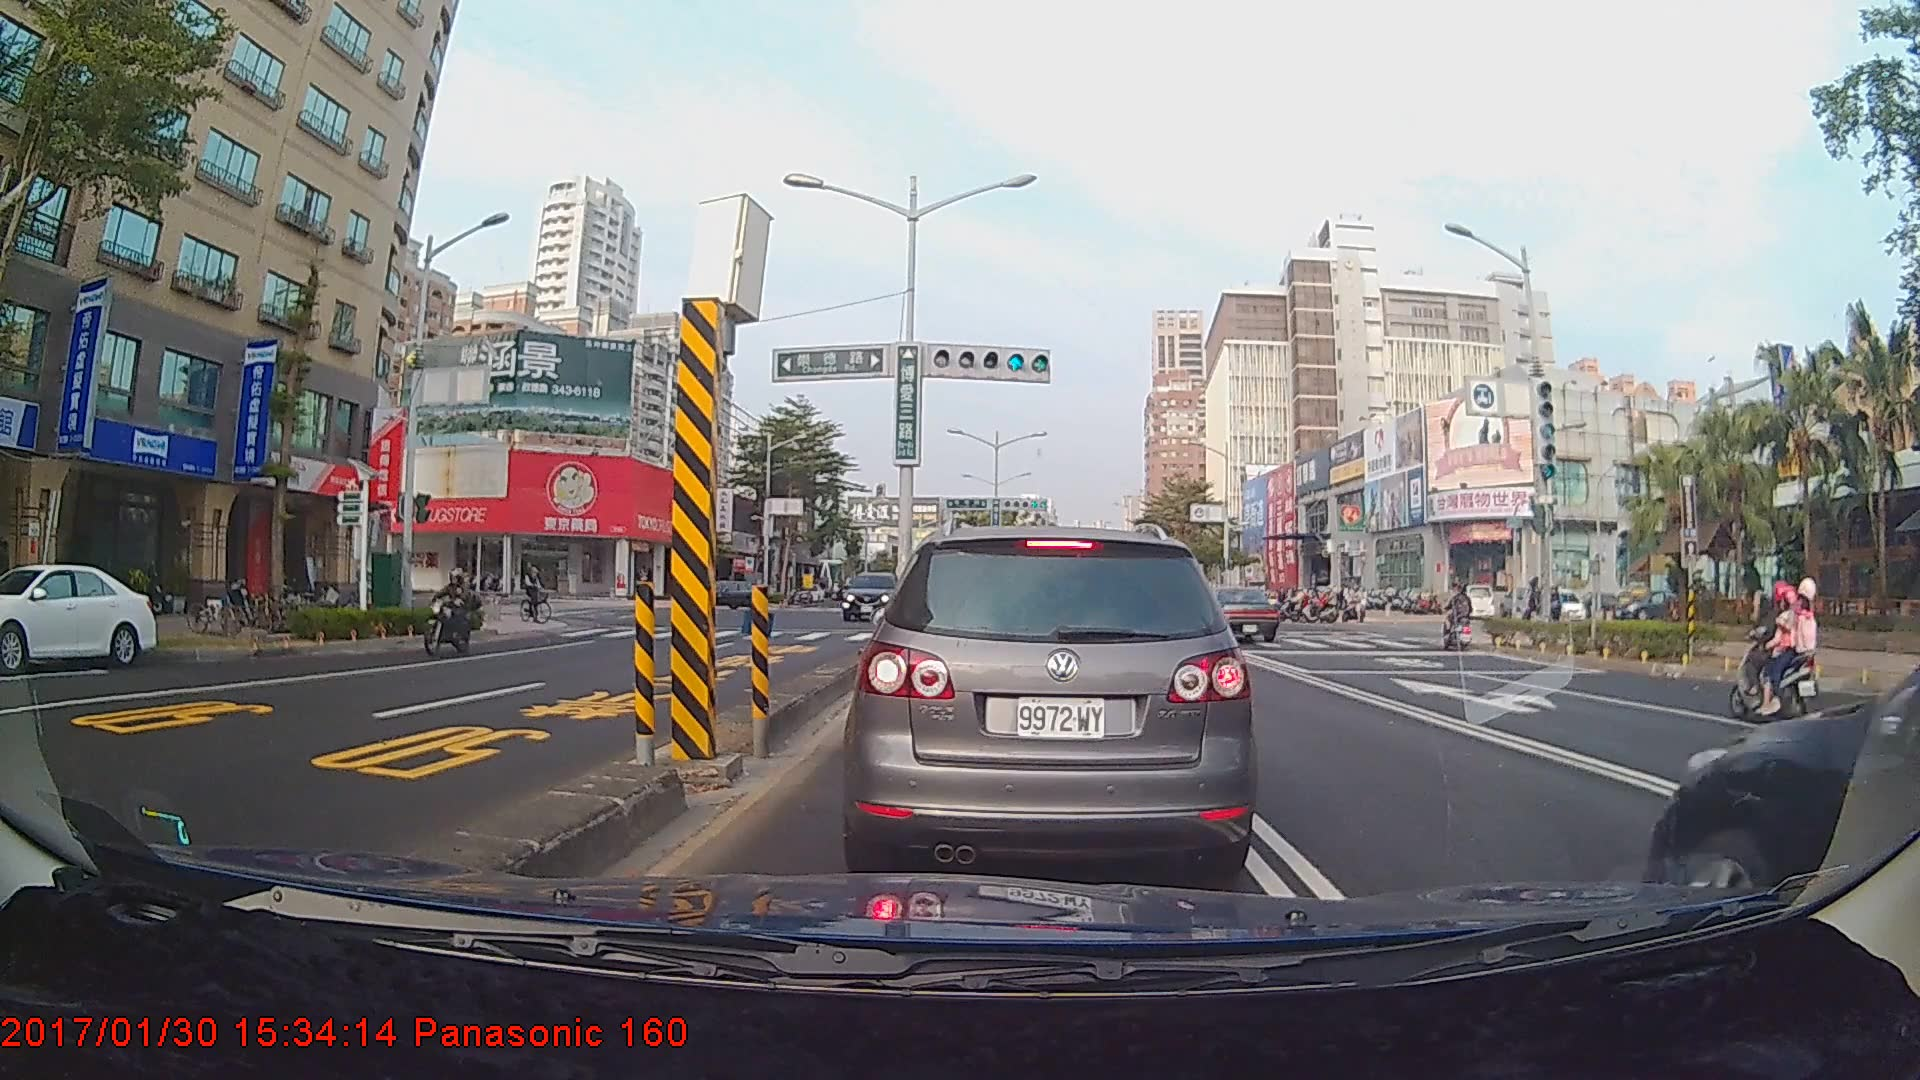rider: (1730, 577, 1827, 727), (422, 563, 485, 660), (518, 559, 561, 629), (1445, 582, 1479, 656)
vehicle: (856, 520, 1248, 886), (1639, 531, 1920, 888), (0, 561, 162, 671), (1193, 585, 1279, 642), (838, 569, 903, 620), (677, 579, 767, 612)
